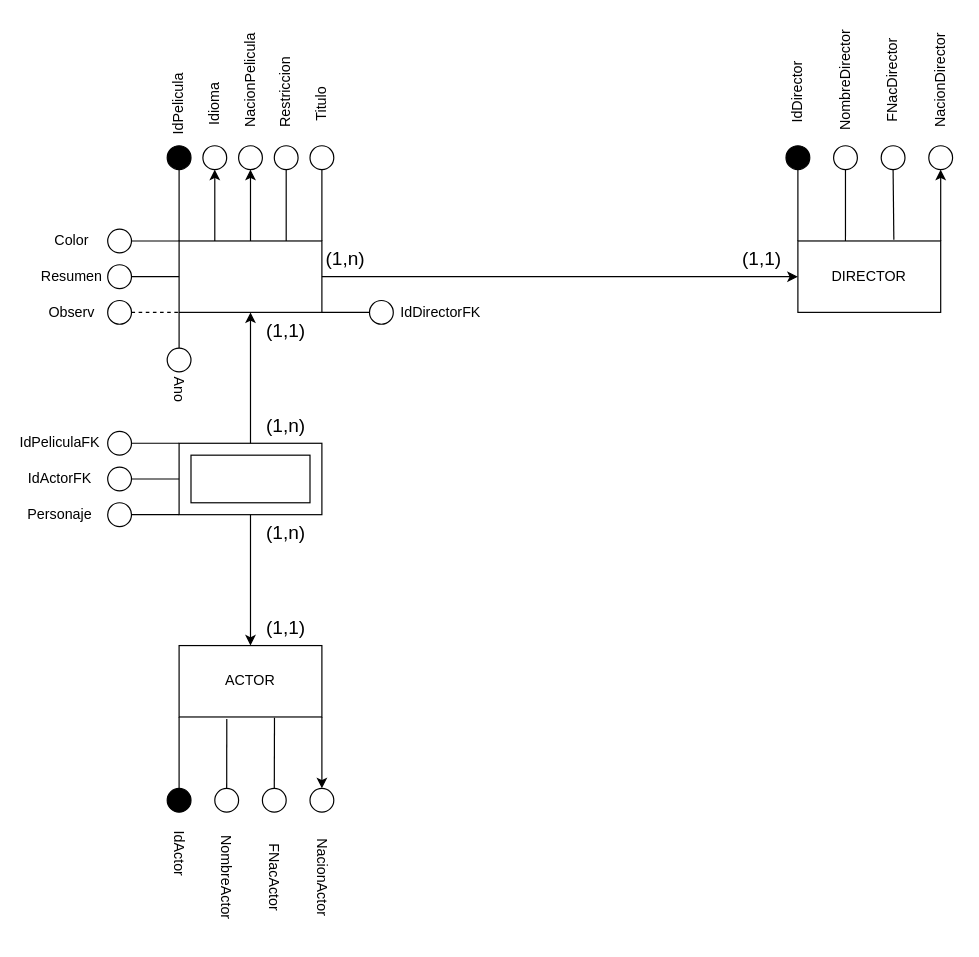
Image size: 979x957. Some labels were removed from this diagram. The centre of each missing label's shape, as x and y in pixels:
ACTOR EN PELICULA: the point at 250,478
PELICULA: the point at 250,276
